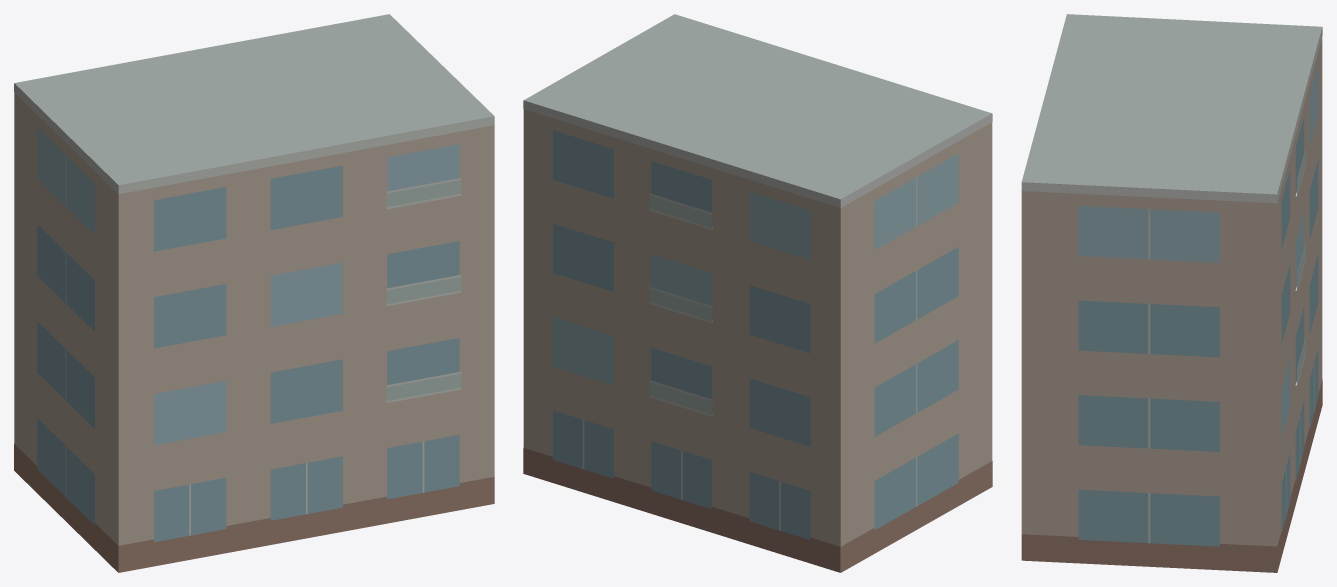
Rendered from survey-upis-32566822.glb.
3 views of the same model, side by side, from view 1: azimuth 30°, elevation 25°; view 2: azimuth 150°, elevation 25°; view 3: azimuth 270°, elevation 25° (orthographic). The views are drawn at different scales.
Visible parts, largest first — view 1: survey-upis-32566822.tmp; view 2: survey-upis-32566822.tmp; view 3: survey-upis-32566822.tmp.
Boxes of the visible parts, x1,y1,x2,y2 form: survey-upis-32566822.tmp: [14, 14, 494, 572]; survey-upis-32566822.tmp: [523, 14, 992, 572]; survey-upis-32566822.tmp: [1021, 14, 1322, 572].
Size of the model in its own units: 10.75 by 10.5 by 7.58.
